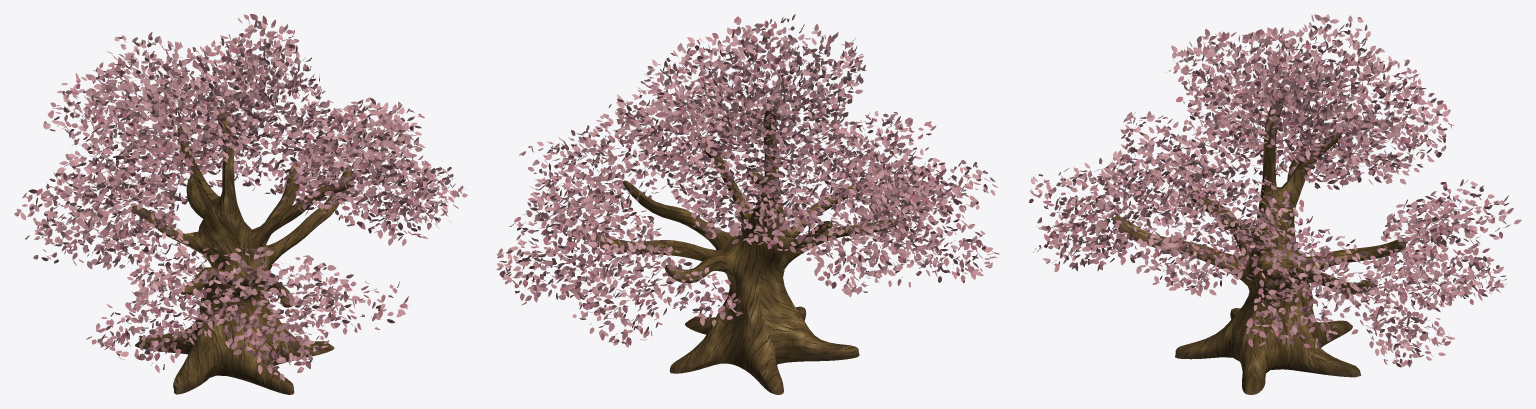
File: blossom-tree.glb
3 renders of one model, left to right at view 1: azimuth 30°, elevation 25°; view 2: azimuth 150°, elevation 25°; view 3: azimuth 270°, elevation 25°, orthographic. The views are drawn at different scales.
Parts seen in each view (by area): view 1: BlossomA, BlossomB, Trunk; view 2: BlossomA, BlossomB, Trunk; view 3: BlossomA, BlossomB, Trunk.
Boxes of the visible parts, left/top/right/bottom form: BlossomA: left=14, top=15, right=463, bottom=380; BlossomB: left=22, top=14, right=467, bottom=374; Trunk: left=132, top=106, right=352, bottom=394; BlossomA: left=496, top=18, right=999, bottom=345; BlossomB: left=499, top=14, right=995, bottom=347; Trunk: left=598, top=108, right=897, bottom=394; BlossomA: left=1029, top=14, right=1513, bottom=367; BlossomB: left=1029, top=14, right=1521, bottom=364; Trunk: left=1112, top=100, right=1405, bottom=394.
Size of the model in its own units: 7.1 by 5.35 by 7.62.
2 materials, 1 textured.
